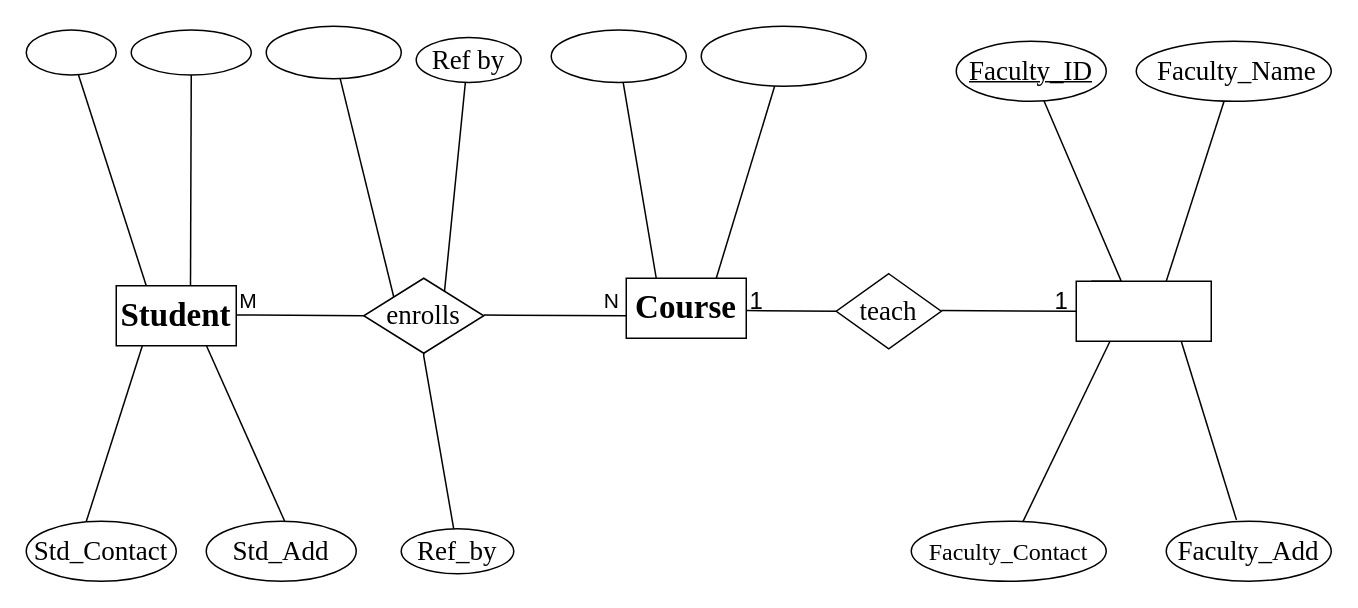
Some shapes in this 1358 by 608 pixel diagram are drawn without their labels. Each missing label, with the centre of its shape:
"Course_ID" belongs at [618,55].
"Course_Name" belongs at [783,55].
"enroll_date" belongs at [333,52].
"Professor" belongs at [1143,310].
"Std_ID" belongs at [70,51].
"Std_Name" belongs at [190,51].
